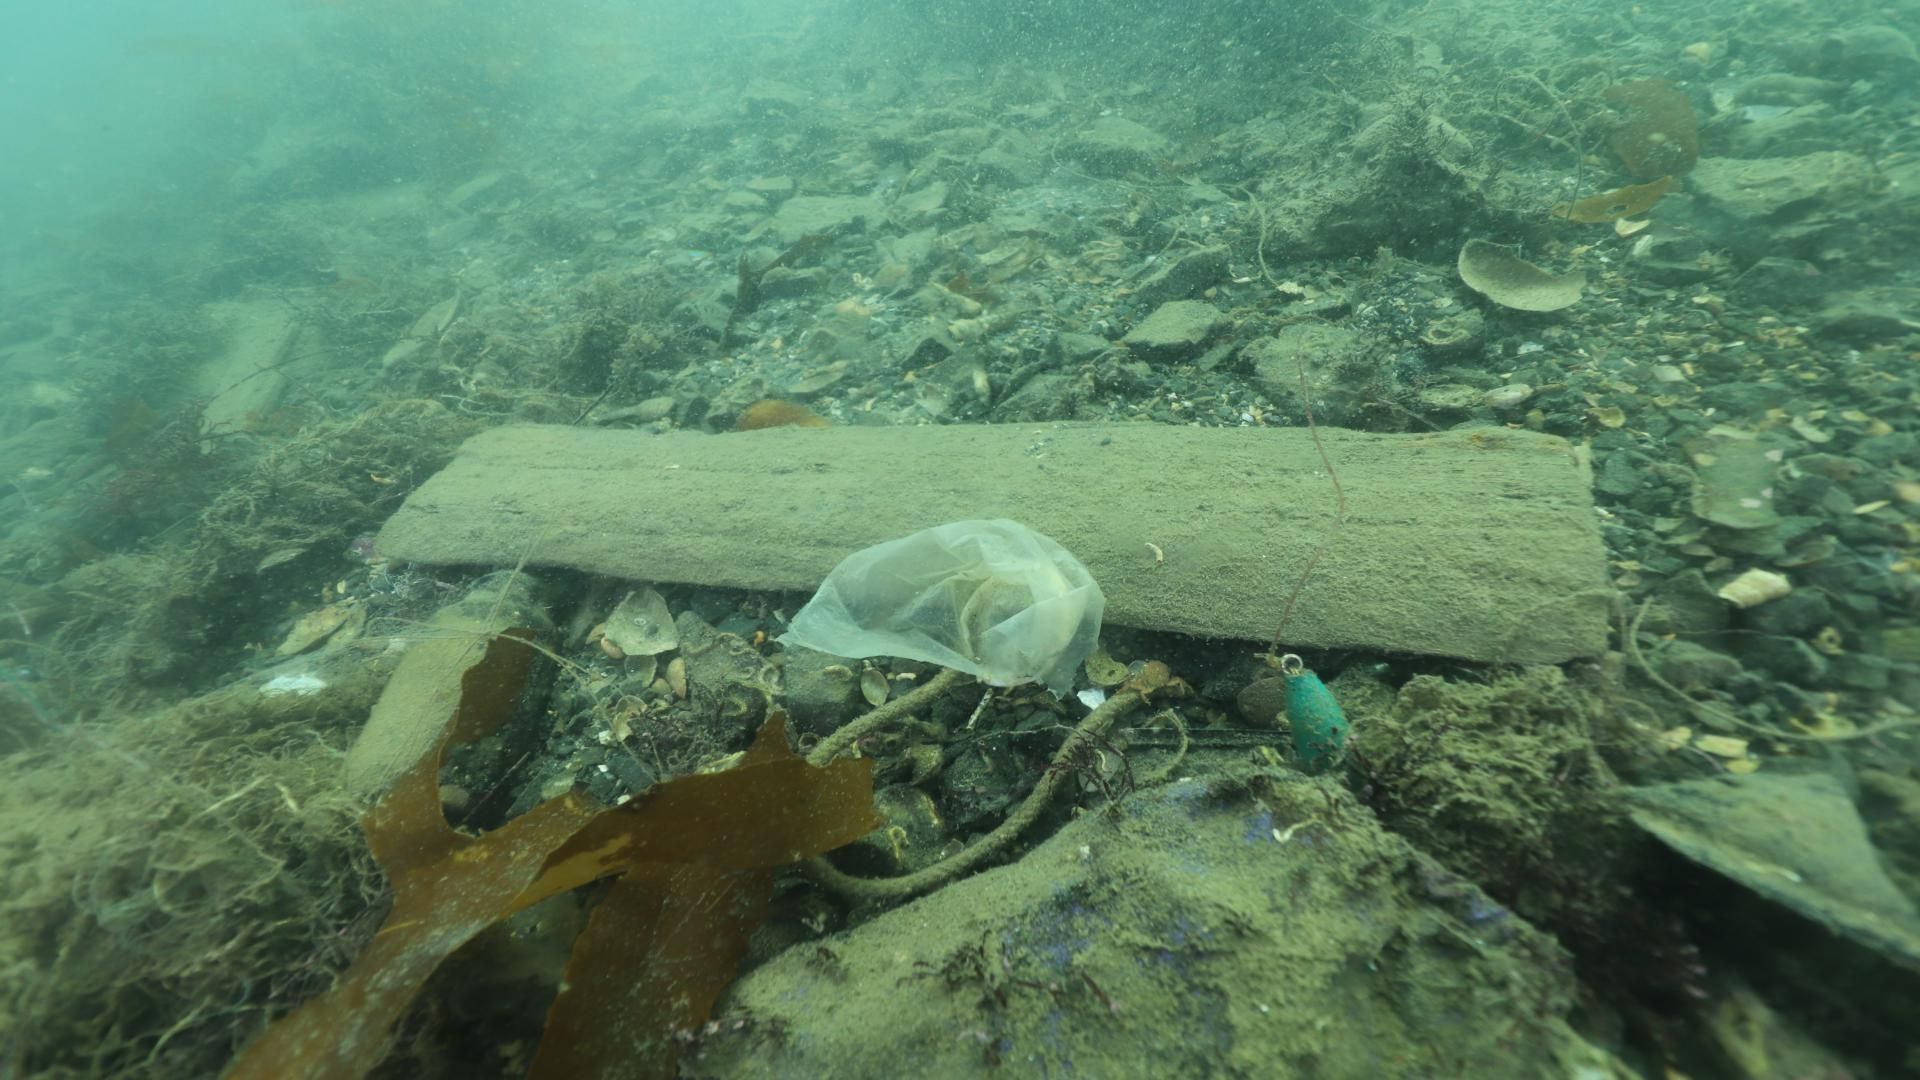wood: (372, 413, 1614, 669)
